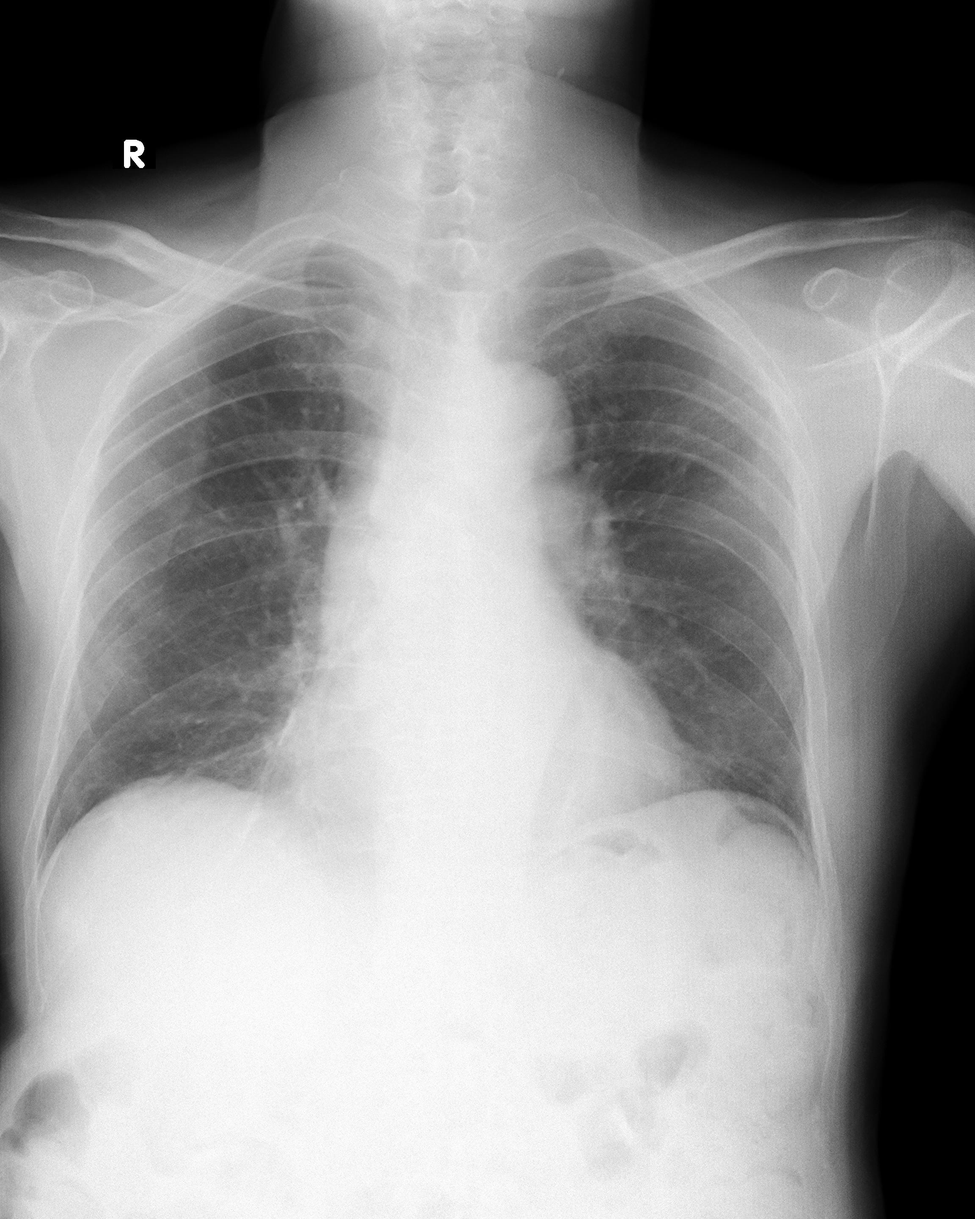Aortic enlargement: (449, 364, 574, 493)
